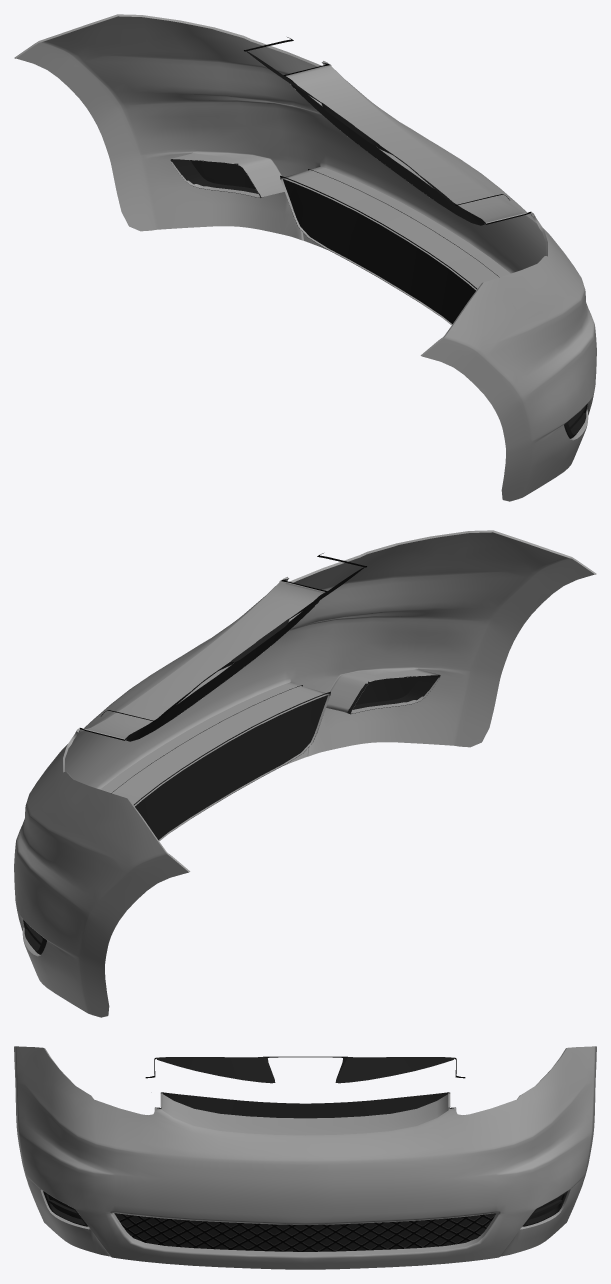
The picture shows the model from 3 angles, top to bottom: view 1: azimuth 30°, elevation 25°; view 2: azimuth 150°, elevation 25°; view 3: azimuth 270°, elevation 25°; orthographic projection. The views are drawn at different scales.
Visible parts, largest first — view 1: Y613_021G_C_Y613_021G_C_2_DaS, Y613_021G_C_Y613_021G_C_2_DaS_E, Y613_021G_C_Y613_021G_C_1_D, Y613_021G_C_Y613_021G_C_6_D; view 2: Y613_021G_C_Y613_021G_C_2_DaS, Y613_021G_C_Y613_021G_C_2_DaS_E, Y613_021G_C_Y613_021G_C_1_D, Y613_021G_C_Y613_021G_C_5_D; view 3: Y613_021G_C_Y613_021G_C_2_DaS, Y613_021G_C_Y613_021G_C_3_D, Y613_021G_C_Y613_021G_C_1_D, Y613_021G_C_Y613_021G_C_2_DaS_E, Y613_021G_C_Y613_021G_C_5_D, Y613_021G_C_Y613_021G_C_6_D.
Part boxes in pixels (x1=…): Y613_021G_C_Y613_021G_C_2_DaS: x1=16, y1=16, x2=596, y2=501; Y613_021G_C_Y613_021G_C_2_DaS_E: x1=14, y1=14, x2=590, y2=440; Y613_021G_C_Y613_021G_C_1_D: x1=191, y1=50, x2=571, y2=422; Y613_021G_C_Y613_021G_C_6_D: x1=170, y1=159, x2=262, y2=197; Y613_021G_C_Y613_021G_C_2_DaS: x1=14, y1=532, x2=594, y2=1017; Y613_021G_C_Y613_021G_C_2_DaS_E: x1=20, y1=530, x2=596, y2=956; Y613_021G_C_Y613_021G_C_1_D: x1=41, y1=566, x2=419, y2=937; Y613_021G_C_Y613_021G_C_5_D: x1=346, y1=675, x2=439, y2=714; Y613_021G_C_Y613_021G_C_2_DaS: x1=14, y1=1046, x2=596, y2=1269; Y613_021G_C_Y613_021G_C_3_D: x1=114, y1=1213, x2=496, y2=1251; Y613_021G_C_Y613_021G_C_1_D: x1=48, y1=1056, x2=562, y2=1219; Y613_021G_C_Y613_021G_C_2_DaS_E: x1=40, y1=1048, x2=570, y2=1256; Y613_021G_C_Y613_021G_C_5_D: x1=43, y1=1191, x2=88, y2=1226; Y613_021G_C_Y613_021G_C_6_D: x1=522, y1=1191, x2=567, y2=1226.
Size of the model in its own units: 81.96 by 67.74 by 210.
